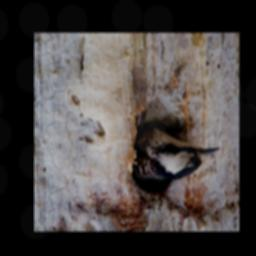Woodpecker: (134, 125, 220, 185)
